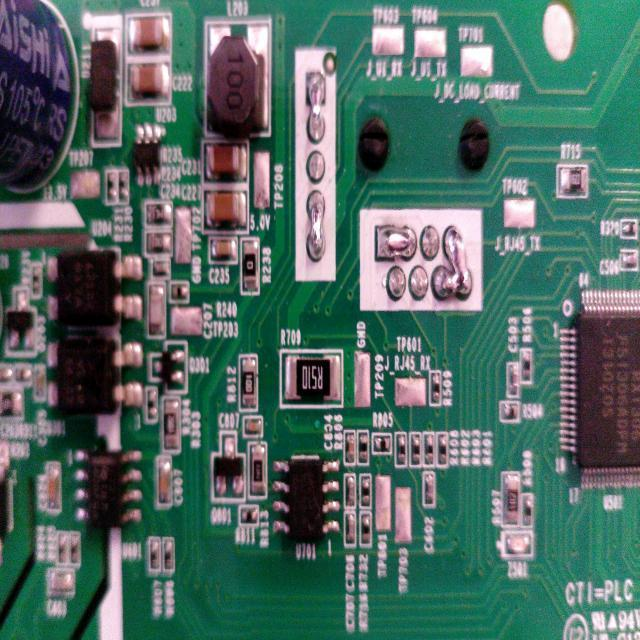Soldering shorted: (433, 228, 473, 304), (374, 222, 418, 266), (303, 190, 327, 264), (306, 69, 326, 145)
